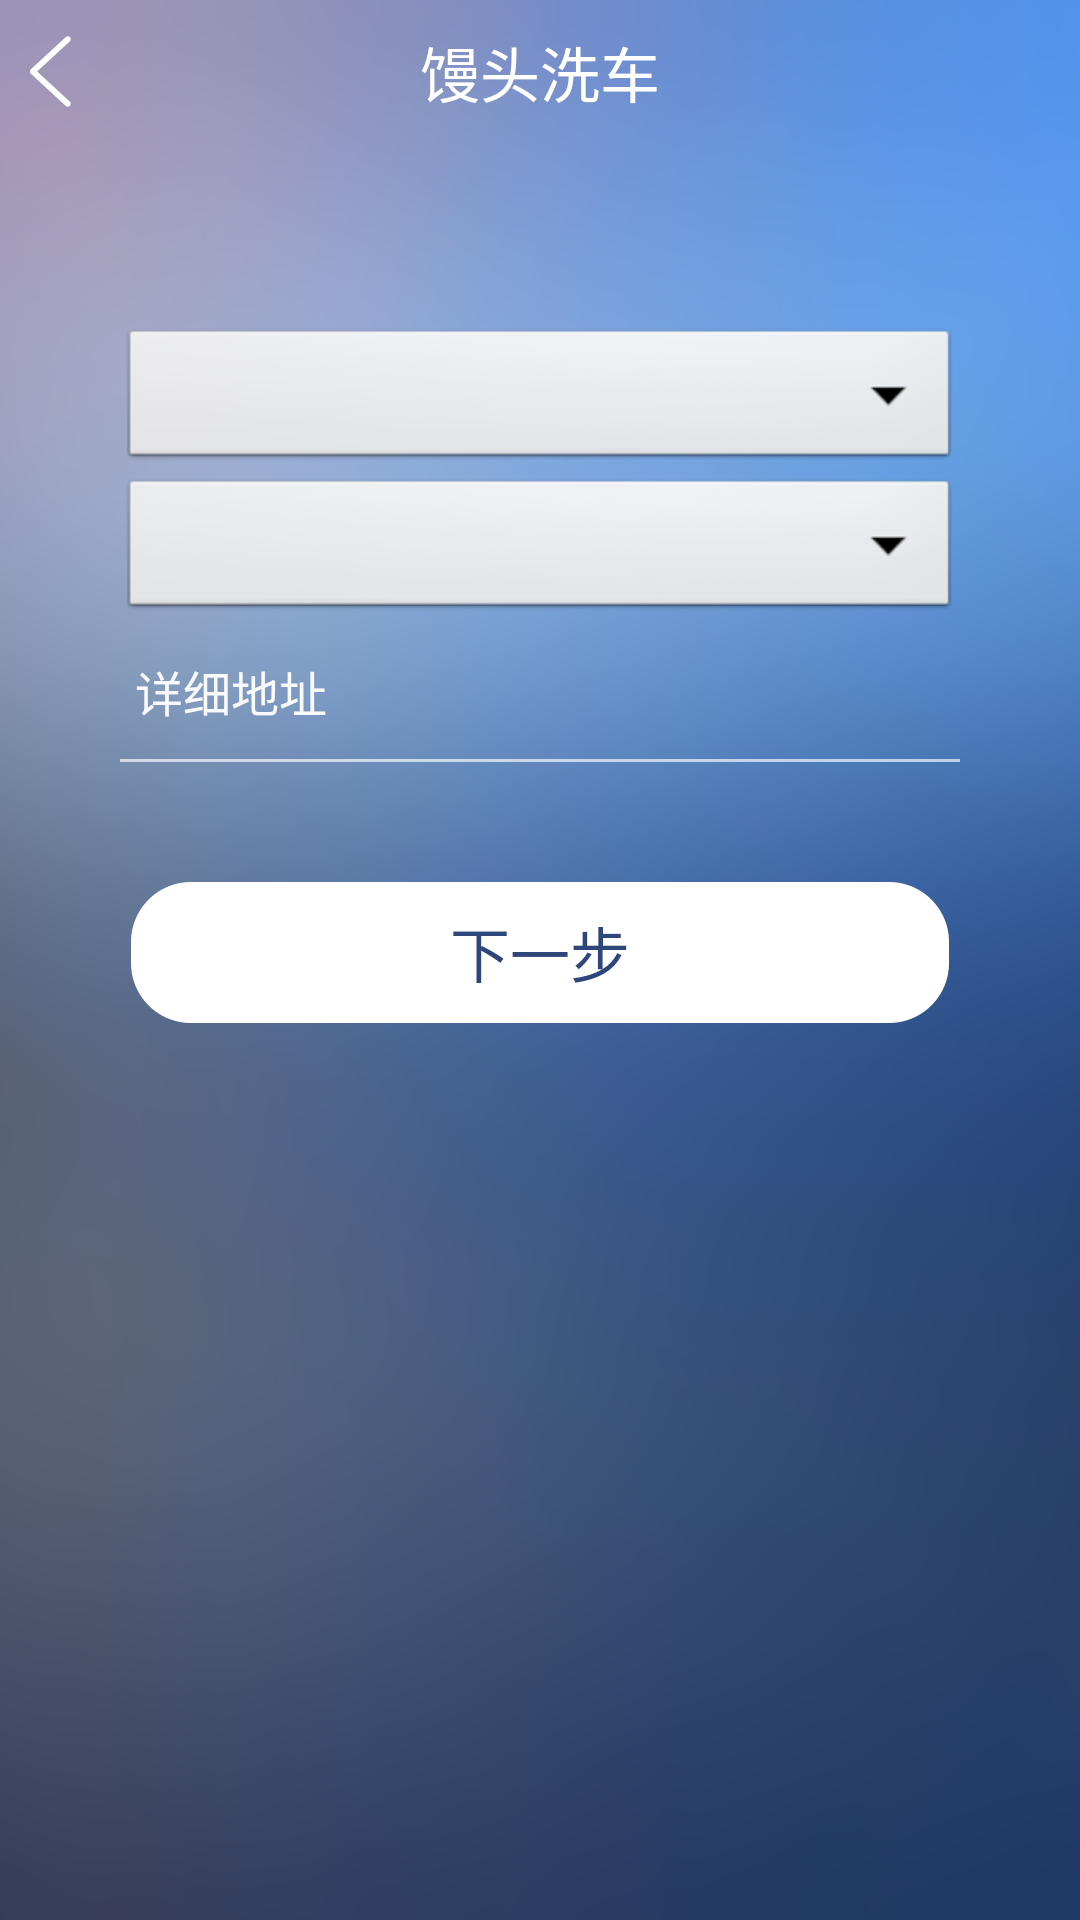

Icon bounding boxes for this 1080 x 1920 phone screenshot, format (x1, y1, x2, y2):
titlebar back: (30, 36, 71, 107)
